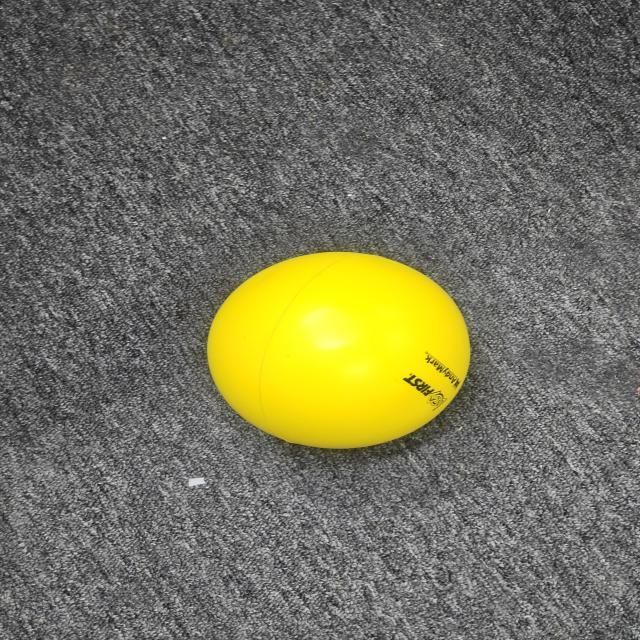Fuel: (196, 242, 484, 456)
